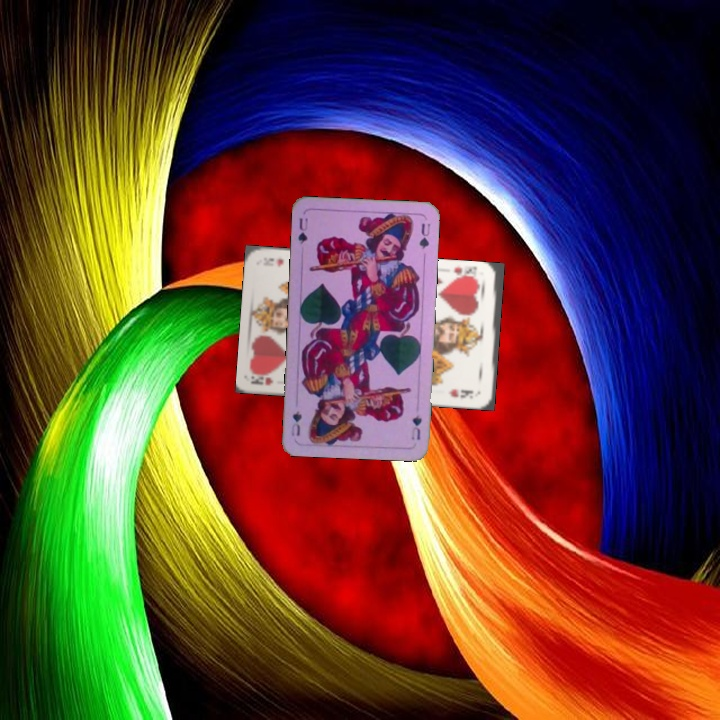GU: (407, 410, 424, 442), (294, 214, 310, 247)
HK: (449, 263, 481, 284), (250, 372, 275, 388)
